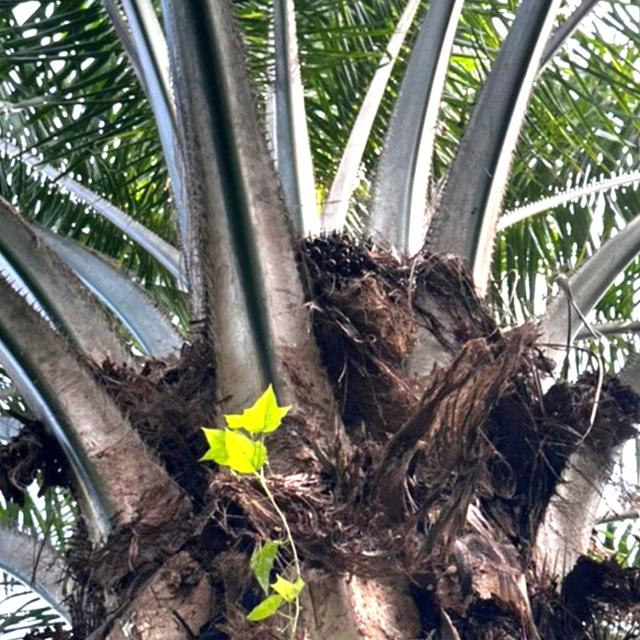unripe: (271, 225, 423, 381)
